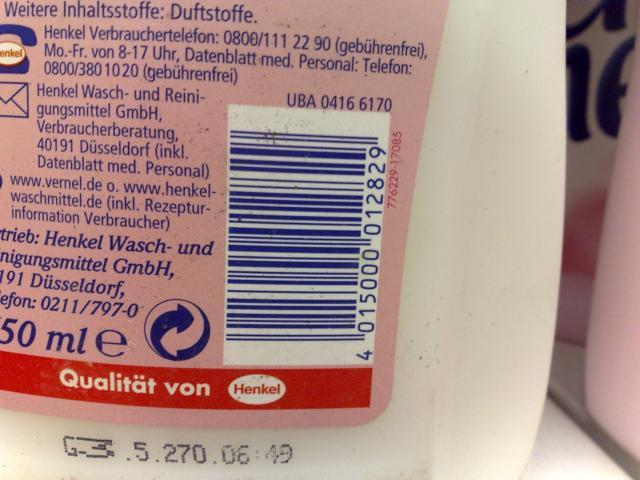Barcode: (222, 104, 391, 367)
